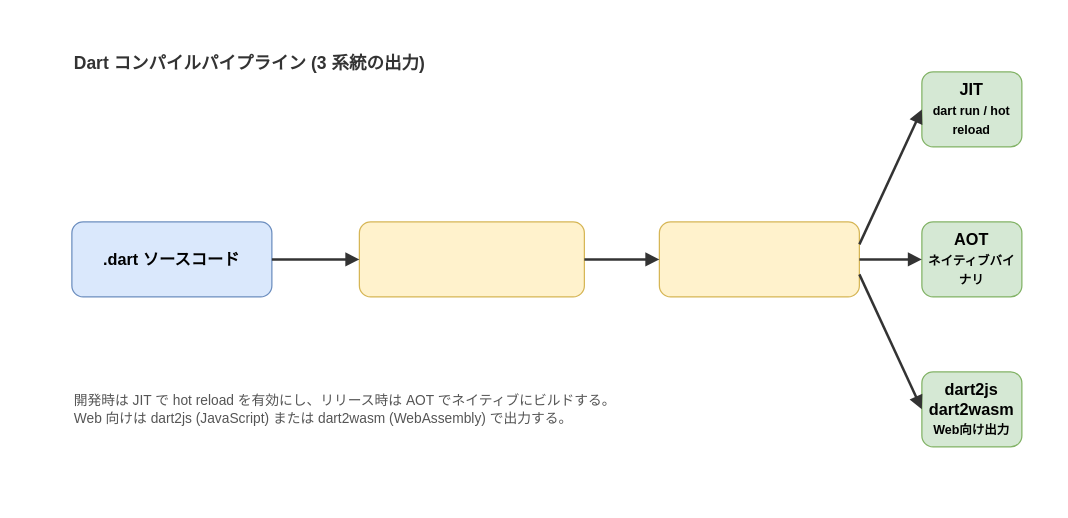
The diagram is 1068 pixels wide and 518 high, and some of its shapes have lost their labels. Here are the shapes that lost their labels. From the top down, the centre of each, then its label:
point (471, 259): Dart Analyzer 型検査 / Null安全性検査
point (758, 259): Kernel IR 中間表現 (.dill)
